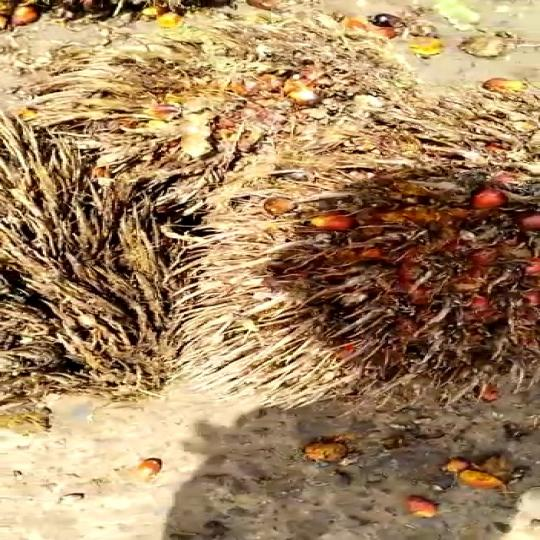terlalu masak: (174, 111, 540, 410), (0, 24, 402, 190)
